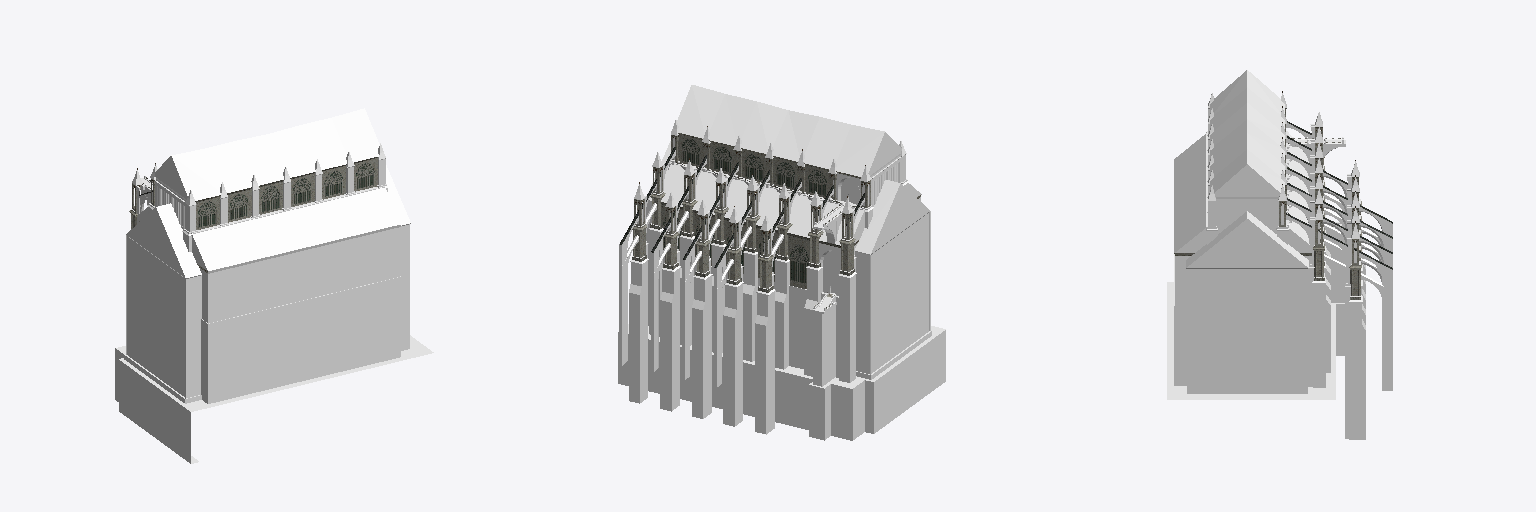
3 views of the same model, side by side, from view 1: azimuth 30°, elevation 25°; view 2: azimuth 150°, elevation 25°; view 3: azimuth 270°, elevation 25° (orthographic).
Parts seen in each view (by area): view 1: mesh0, mesh1, mesh2, mesh5, mesh11; view 2: mesh0, mesh1, mesh5, mesh2, mesh3, mesh12, mesh11, mesh13; view 3: mesh0, mesh1, mesh11, mesh5, mesh2, mesh3, mesh12.
Boxes of the visible parts, <box> form: mesh0: <box>124,156,409,403</box>; mesh1: <box>132,108,410,277</box>; mesh2: <box>129,157,377,272</box>; mesh5: <box>115,180,198,463</box>; mesh11: <box>116,178,433,411</box>; mesh0: <box>619,132,931,434</box>; mesh1: <box>634,85,906,254</box>; mesh5: <box>618,154,945,440</box>; mesh2: <box>632,133,920,292</box>; mesh3: <box>634,135,870,308</box>; mesh12: <box>620,147,864,267</box>; mesh11: <box>628,163,945,388</box>; mesh13: <box>627,203,783,280</box>; mesh0: <box>1174,109,1392,439</box>; mesh1: <box>1174,70,1359,267</box>; mesh11: <box>1167,136,1345,399</box>; mesh5: <box>1286,124,1383,390</box>; mesh2: <box>1174,157,1361,299</box>; mesh3: <box>1279,108,1359,264</box>; mesh12: <box>1286,121,1392,269</box>.
Size of the model in its own units: 108 by 116 by 87.02.
Materials: 15 (4 with a texture image).